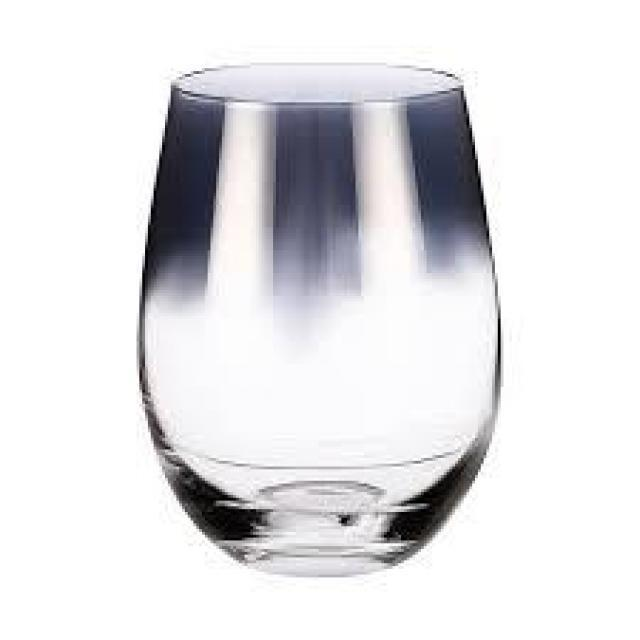glass: (139, 64, 506, 576)
